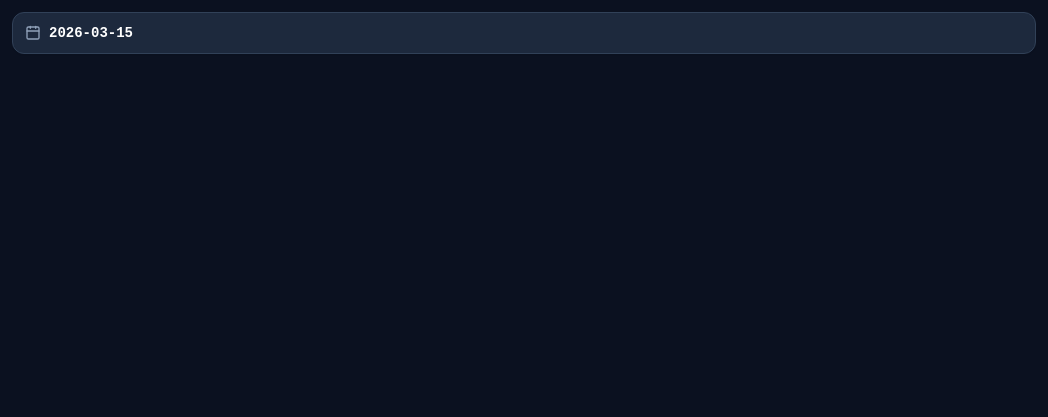
Scenario: NavDatePicker Hierarchical Calendar Zoom-Out (Slice 29) › zooms out to decade year grid from month view, and allows navigating and selecting years
Click the button "2026-03-15". click: point(91, 33)
box: x1=12 y1=12 x2=1036 y2=54
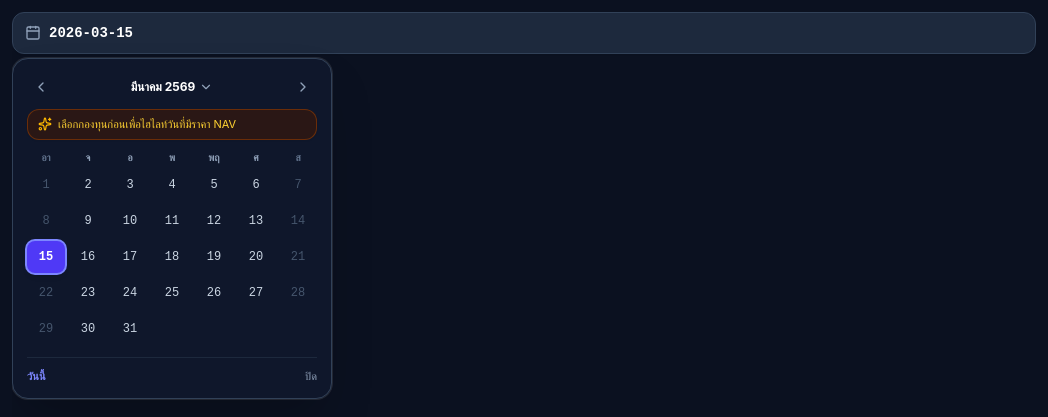
Note: Click month header to go to months view
Click the button "มีนาคม 2569". click: point(172, 87)
box: x1=121 y1=75 x2=223 y2=99
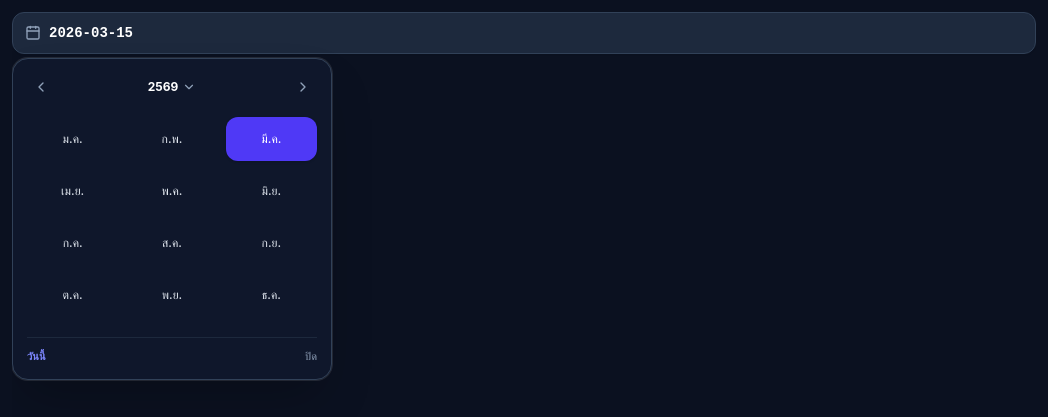
Check: the button titled "คลิกเพื่อเลือกปี" is shown
Note: Click year header to zoom out to years/decade view
Click the button titled "คลิกเพื่อเลือกปี". click: point(172, 87)
box: x1=138 y1=75 x2=206 y2=99
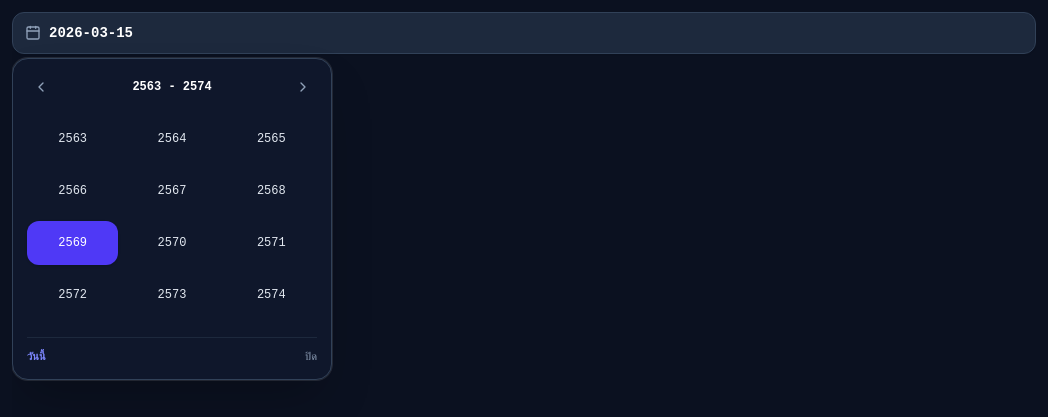
Check: the button "2567" is shown
Click the button "2567". click: point(172, 191)
box: x1=126 y1=169 x2=218 y2=213
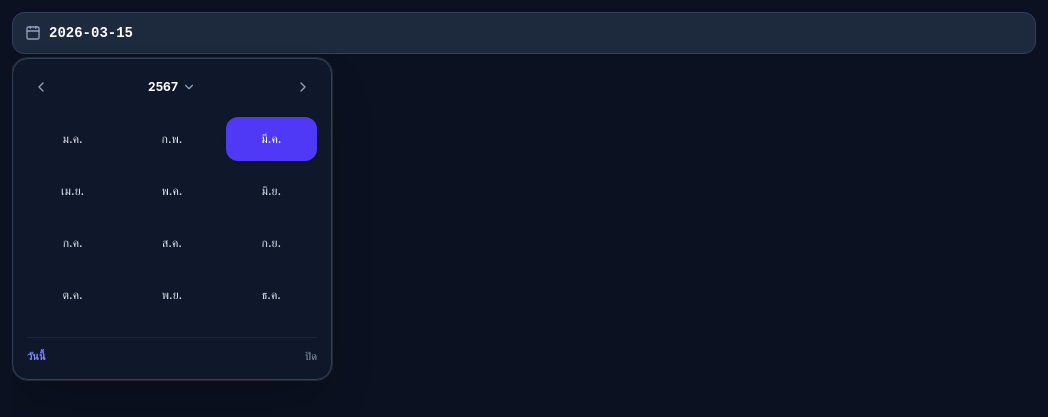
Check: the button titled "คลิกเพื่อเลือกปี" reads "2567", box x1=138 y1=75 x2=206 y2=99
Click the button "ม.ค.". click: point(73, 139)
box: x1=27 y1=117 x2=118 y2=161
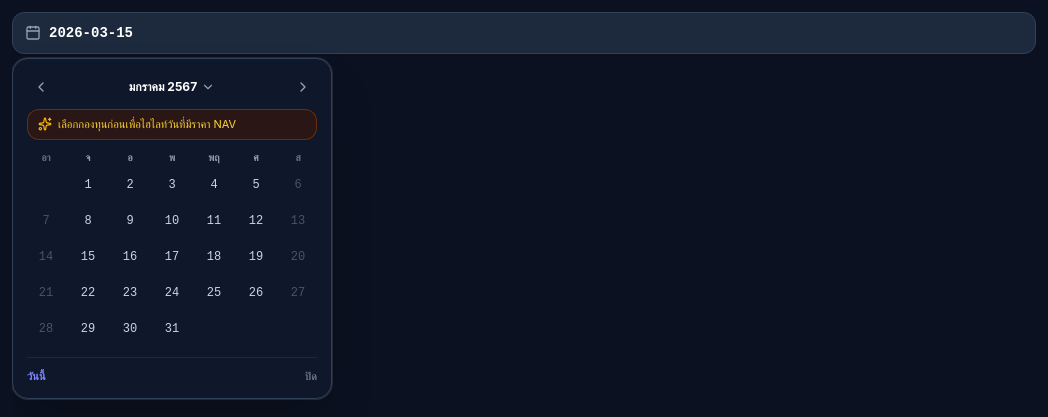
Check: the text "มกราคม 2567" is shown, box x1=129 y1=79 x2=197 y2=95
